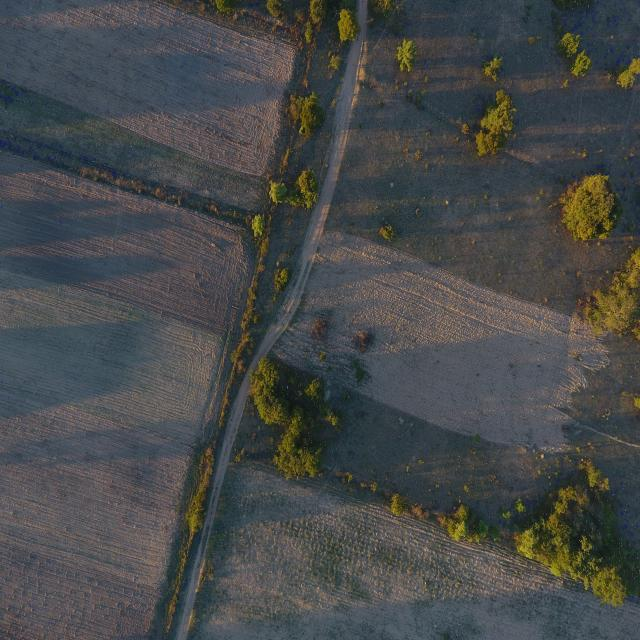boundaries: (21, 43, 520, 633)
